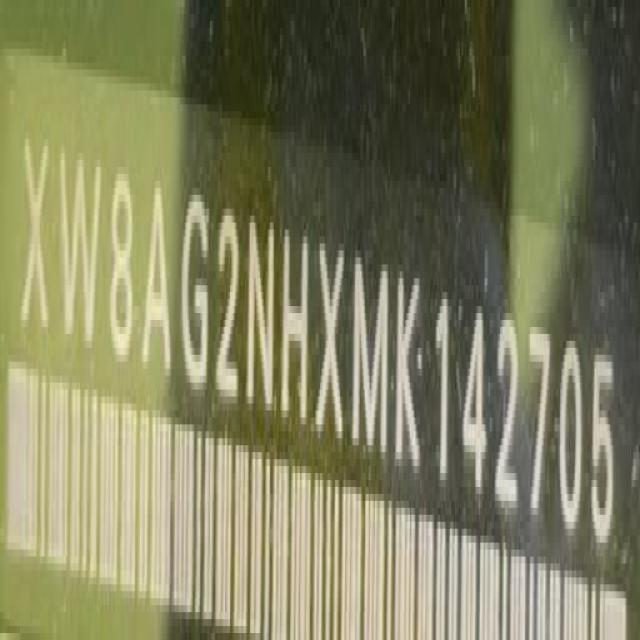0: (556, 334, 583, 548)
1: (432, 283, 454, 495)
2: (215, 199, 242, 412), (498, 316, 522, 524)
4: (461, 299, 487, 509)
5: (593, 339, 619, 556)
7: (528, 319, 551, 534)
8: (110, 162, 137, 372)
A: (138, 174, 174, 388)
G: (181, 184, 213, 396)
H: (282, 221, 312, 436)
K: (394, 250, 422, 484)
M: (352, 244, 388, 465)
N: (246, 207, 277, 428)
W: (54, 141, 102, 361)
X: (314, 227, 346, 451), (20, 124, 50, 348)
